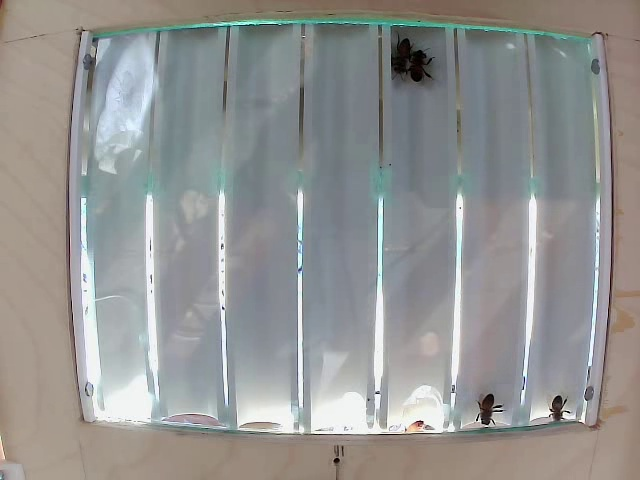bee: (479, 392, 510, 432), (382, 36, 408, 70), (545, 398, 573, 424), (412, 58, 430, 88)
